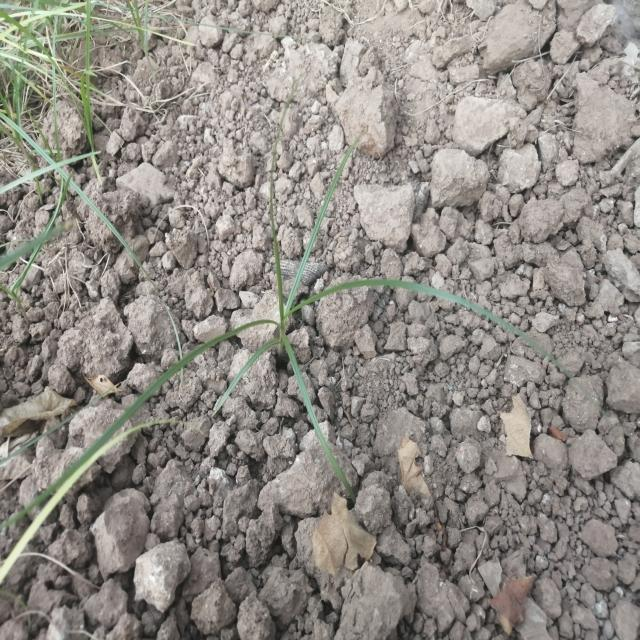sedge: (52, 141, 528, 494)
